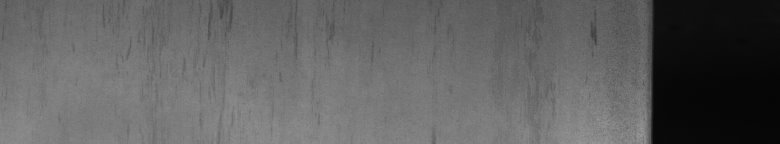ka: (208, 6, 334, 56)
